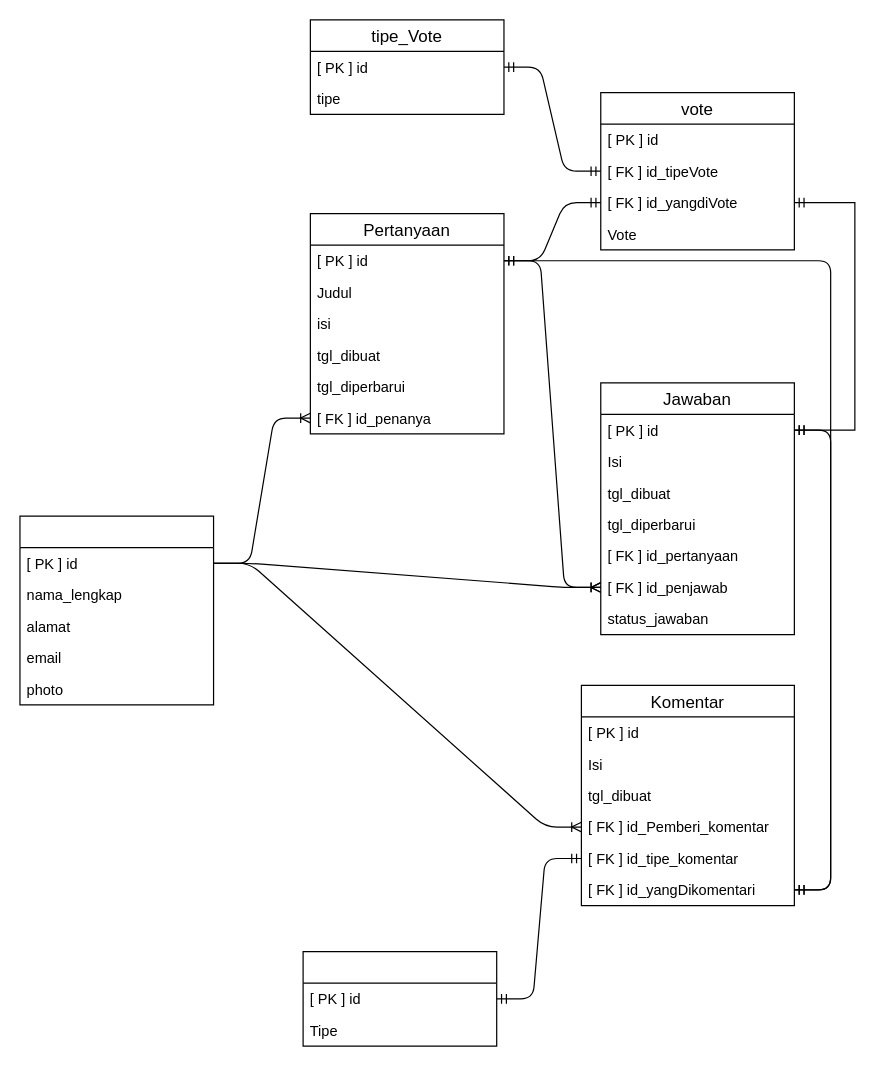
The diagram is 875 pixels wide and 1066 high, and some of its shapes have lost their labels. Here are the shapes that lost their labels. From the top down, the box of each, then its label:
(19, 515, 214, 705): Profil
(302, 950, 497, 1046): tipe_Komentar
